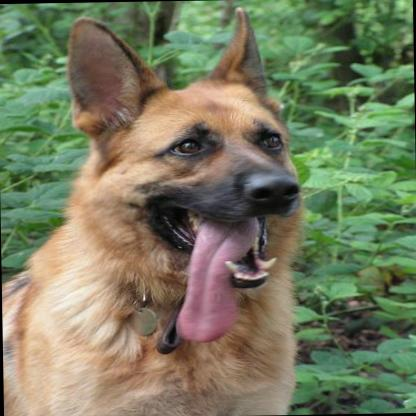German_shepherd: (0, 3, 301, 416)
